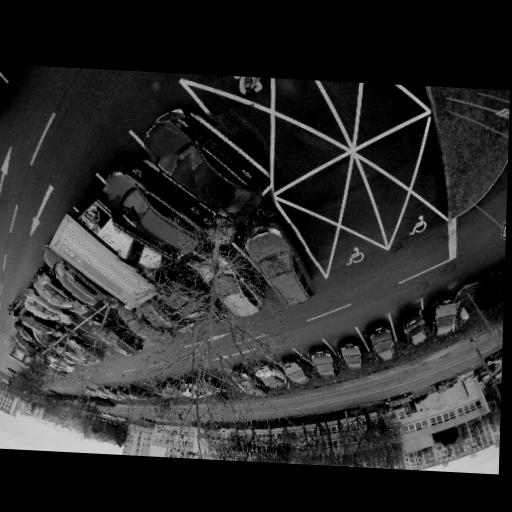busy: (142, 103, 275, 237), (105, 152, 208, 275), (243, 221, 320, 307), (152, 260, 207, 316), (218, 261, 267, 317), (34, 275, 88, 313), (426, 292, 463, 342), (124, 308, 171, 345), (20, 308, 68, 343), (141, 302, 190, 334), (24, 295, 70, 327), (397, 309, 431, 351), (104, 321, 142, 357), (364, 323, 399, 362), (335, 336, 370, 373), (309, 346, 343, 379), (280, 355, 315, 387), (67, 336, 104, 365), (255, 361, 288, 393), (232, 365, 266, 396), (15, 326, 47, 353), (129, 383, 155, 401)
free: (82, 328, 117, 356)
